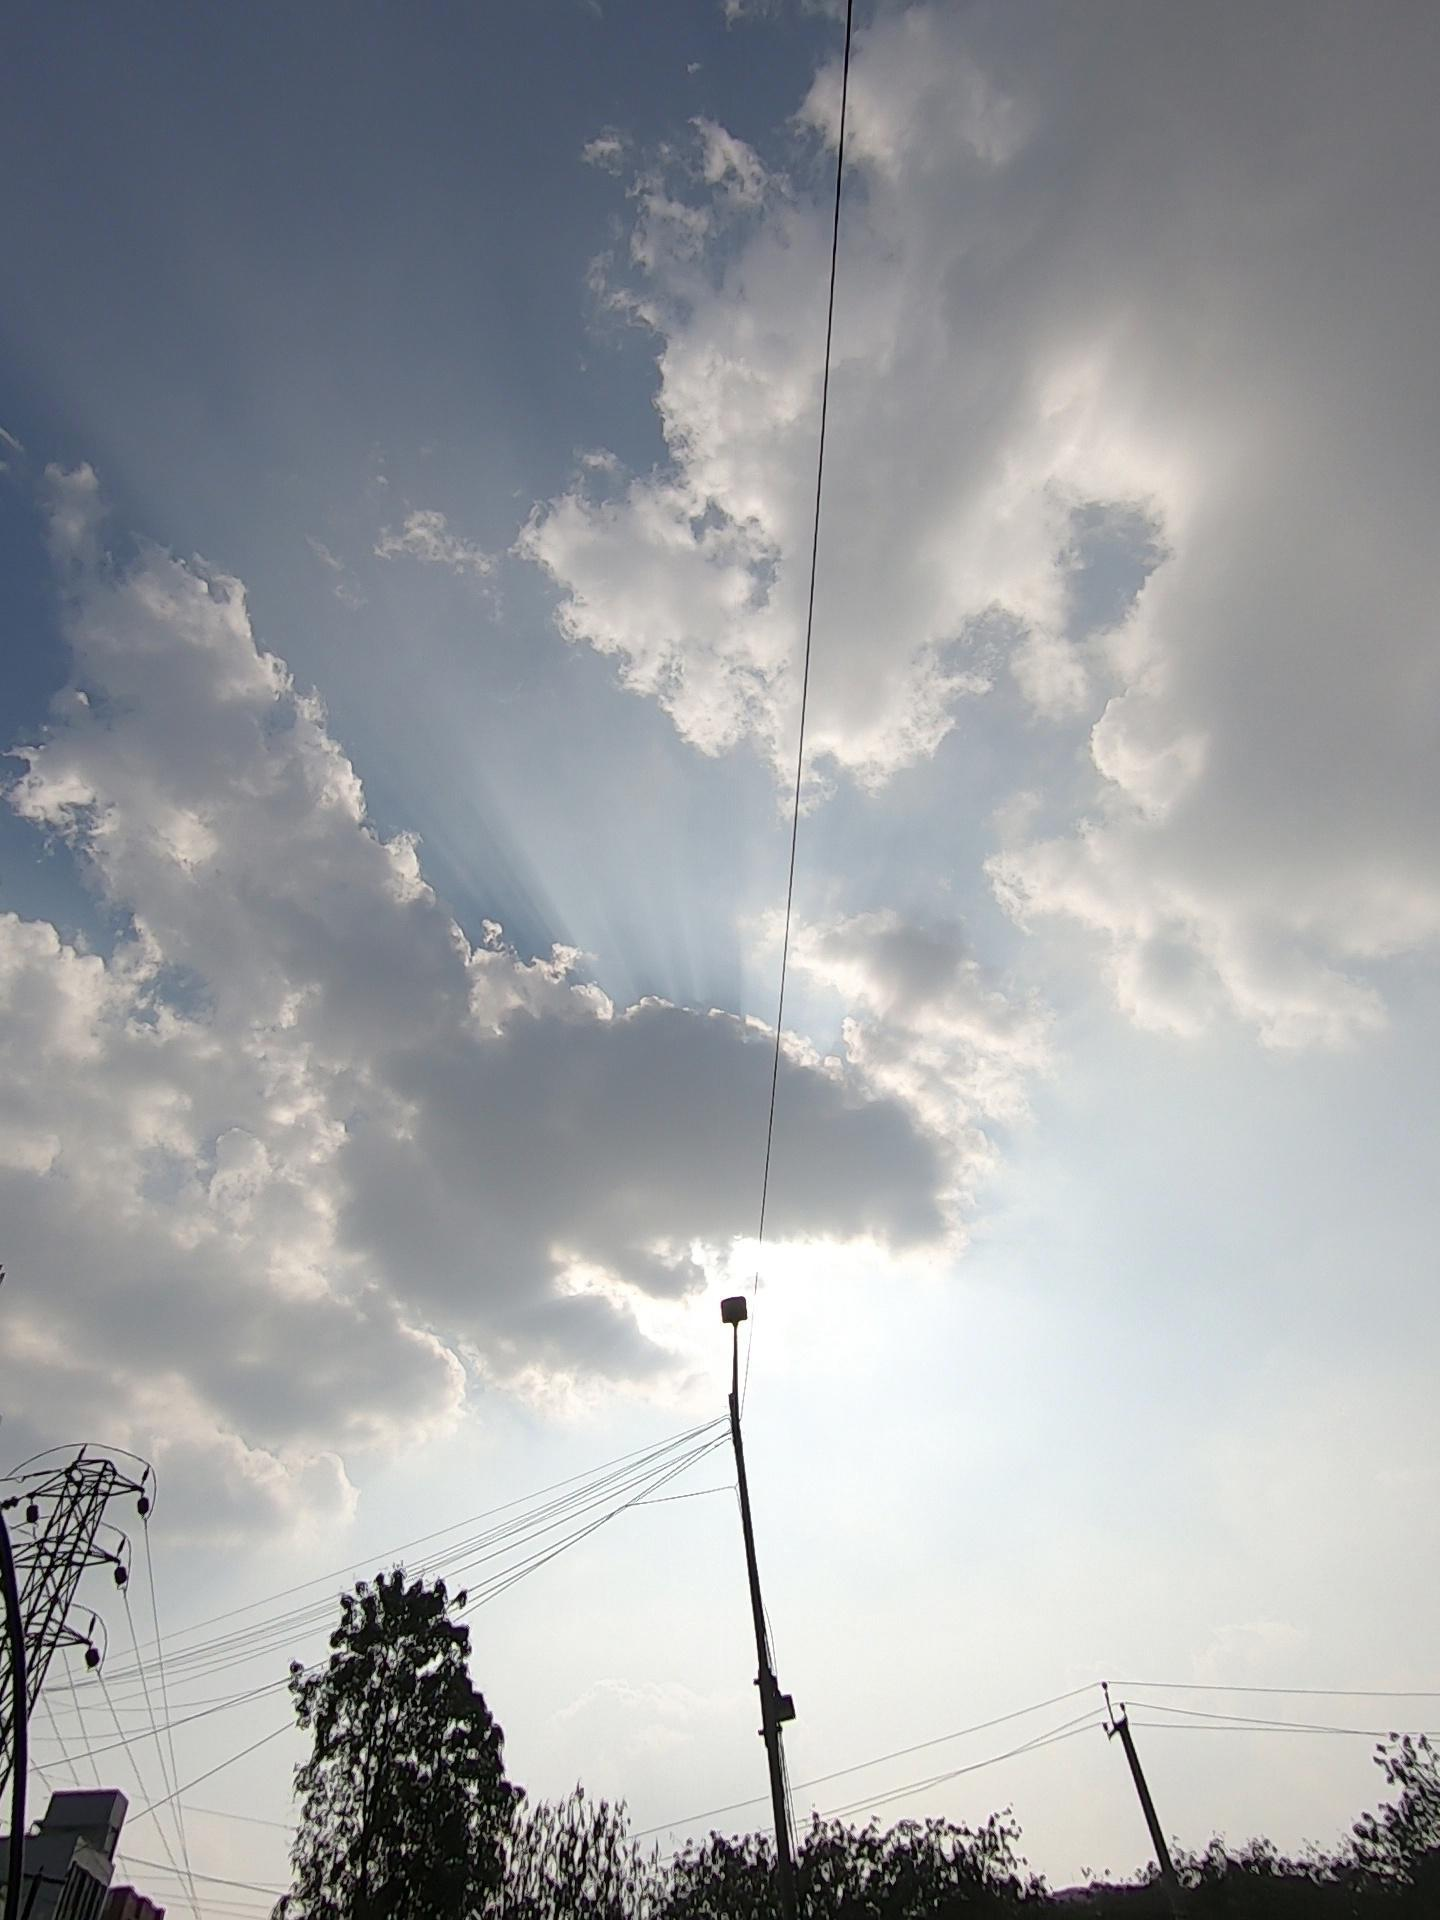off: (625, 1231, 891, 1668)
